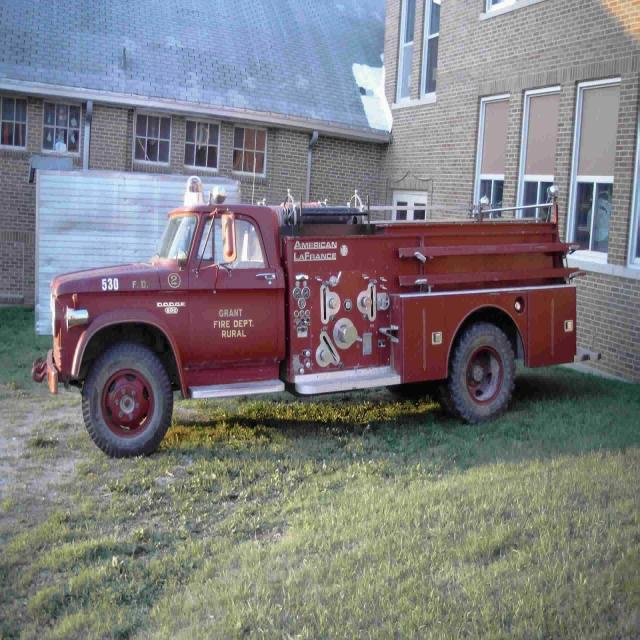ambulance: (43, 194, 577, 408)
